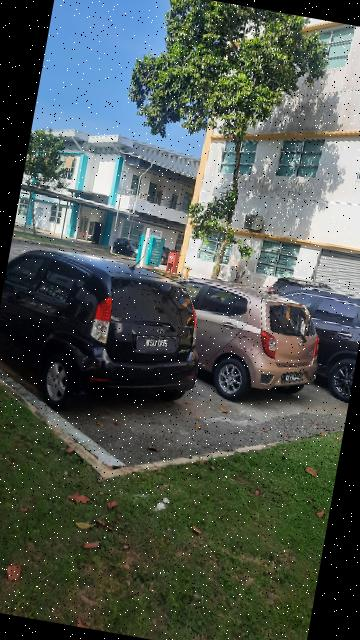License_Plate: (133, 330, 187, 359), (281, 370, 306, 388)
car: (1, 236, 214, 430), (183, 266, 360, 419)
